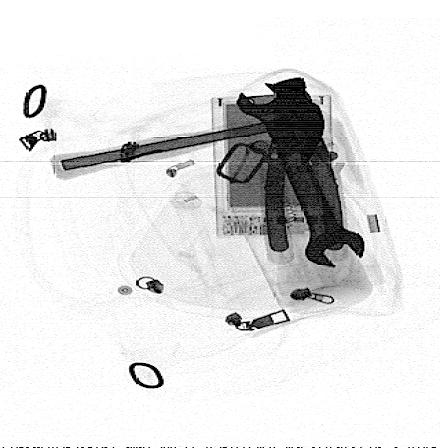Hammer: (51, 76, 326, 182)
Pliers: (263, 86, 348, 254)
Powerbank: (211, 94, 349, 238)
Wrench: (237, 82, 367, 267)
